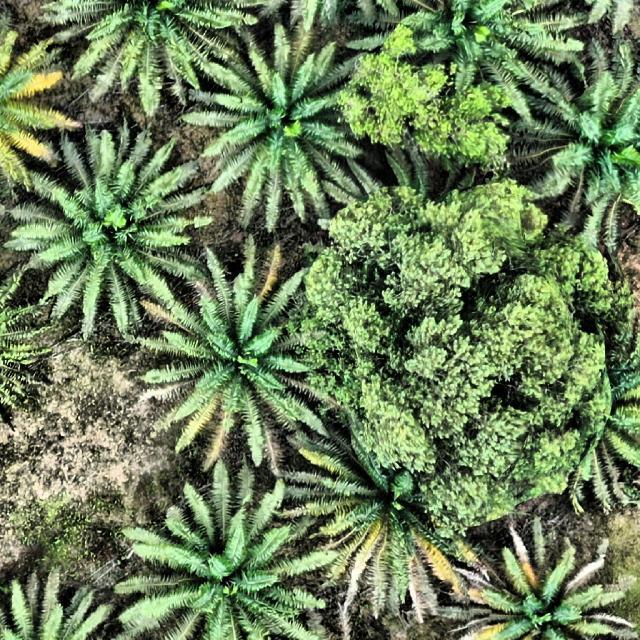Kelapa_Sawit: (142, 245, 338, 466), (294, 420, 478, 614), (17, 130, 195, 316), (142, 469, 322, 640), (217, 53, 364, 219), (58, 0, 248, 114), (403, 0, 575, 120), (466, 525, 634, 640), (544, 70, 640, 241), (565, 339, 640, 520), (3, 30, 77, 209), (0, 544, 114, 640)
